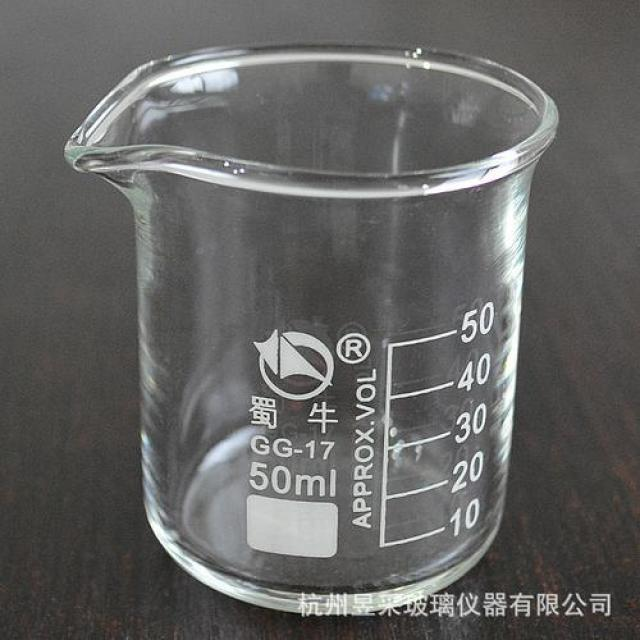Beaker: (63, 32, 562, 612)
